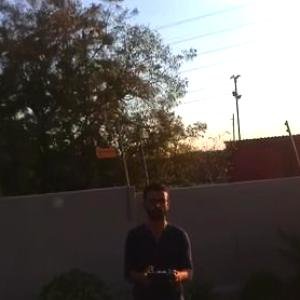follow: (112, 175, 195, 299)
